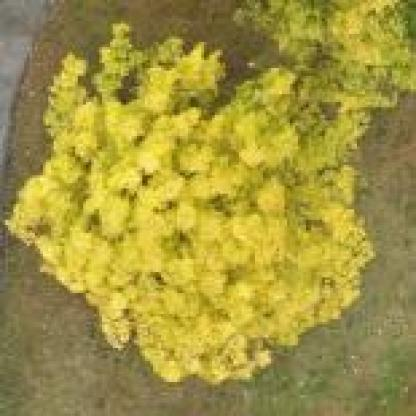Deciduous Tree: (11, 38, 400, 378), (239, 0, 416, 110)
